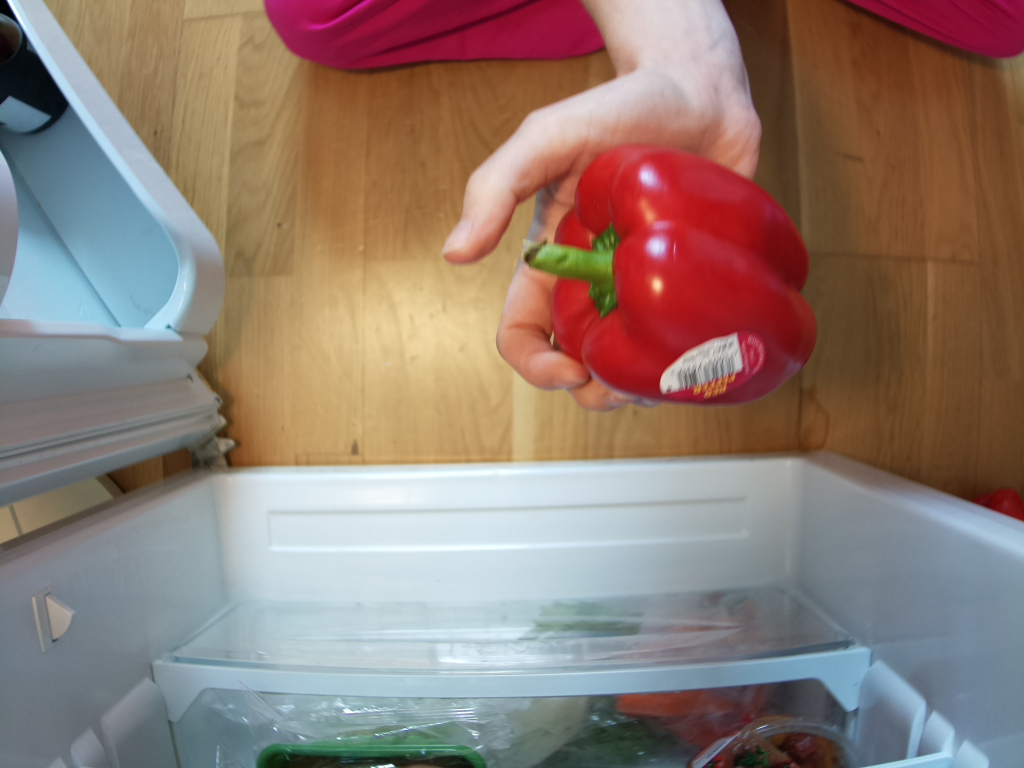pepper: (518, 145, 819, 410)
